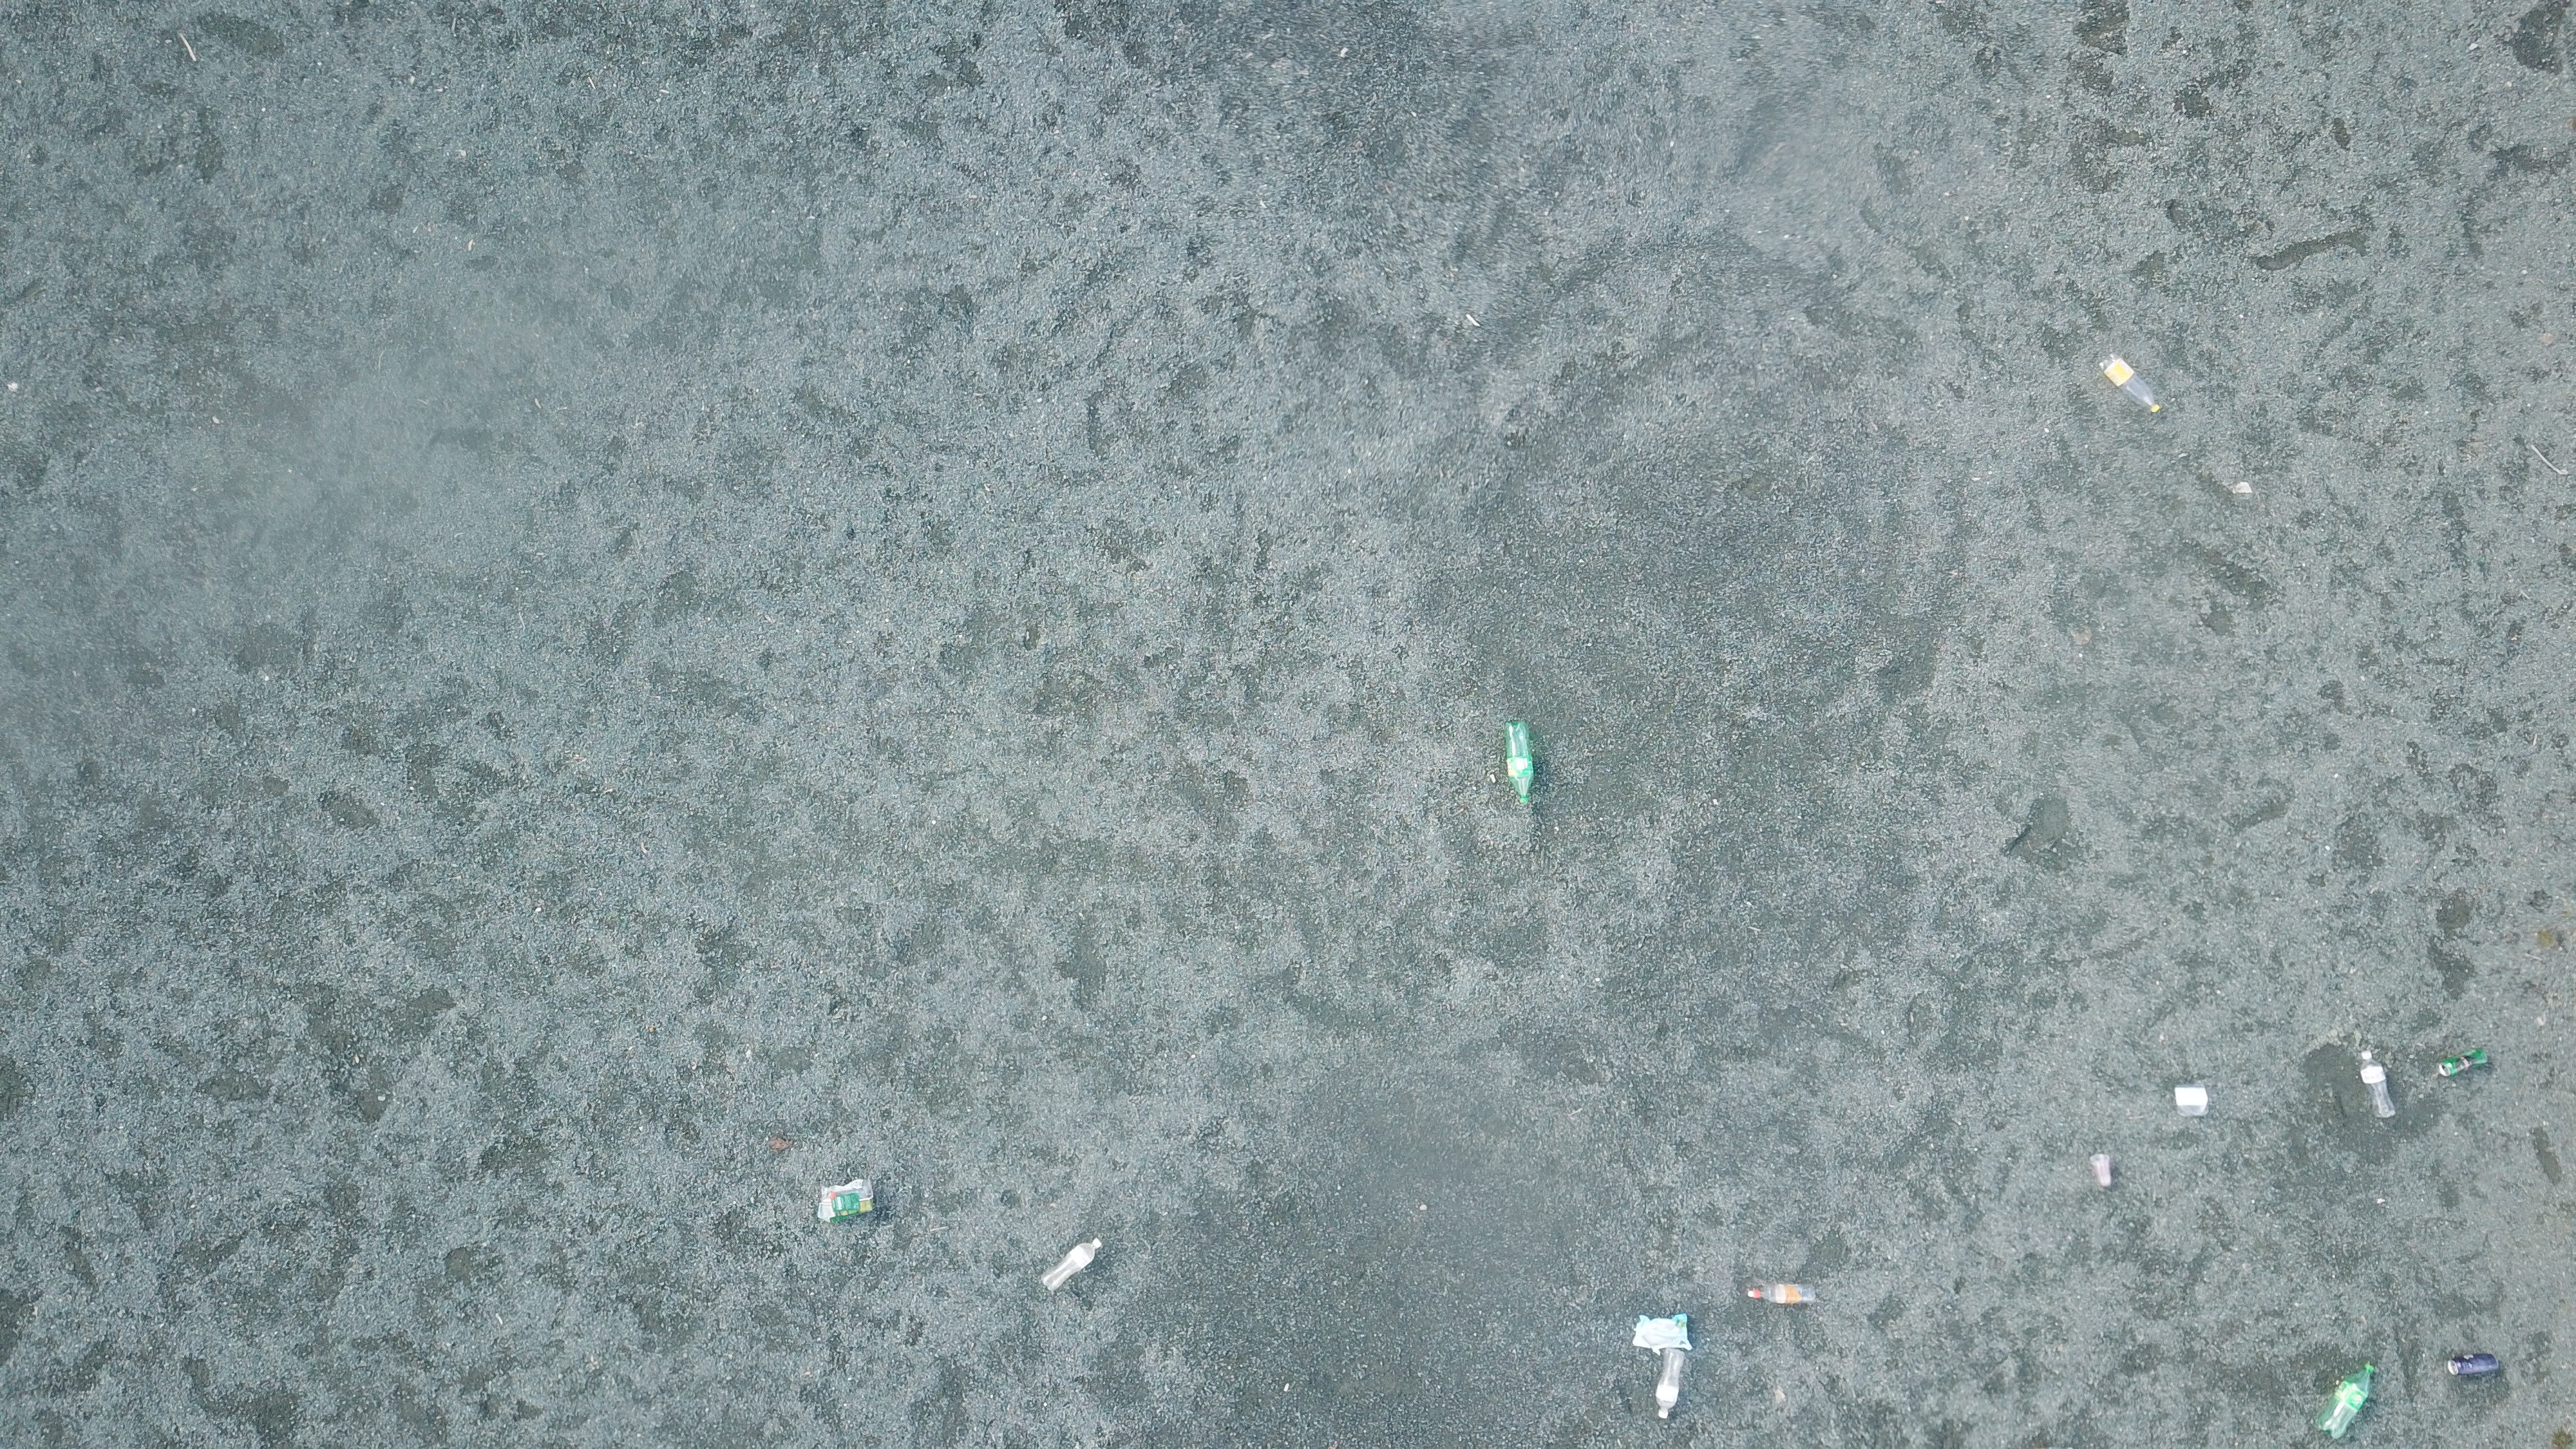Can: (2438, 1047, 2489, 1076), (2447, 1353, 2500, 1378)
Plastic: (817, 1177, 876, 1223), (1631, 1313, 1693, 1352), (2173, 1085, 2212, 1120), (2089, 1154, 2114, 1189)
PlasticBottle: (2316, 1362, 2373, 1440), (2098, 354, 2164, 414), (1040, 1238, 1102, 1290), (1504, 722, 1536, 807), (2360, 1051, 2397, 1120), (1658, 1350, 1686, 1421), (1744, 1281, 1819, 1307)
